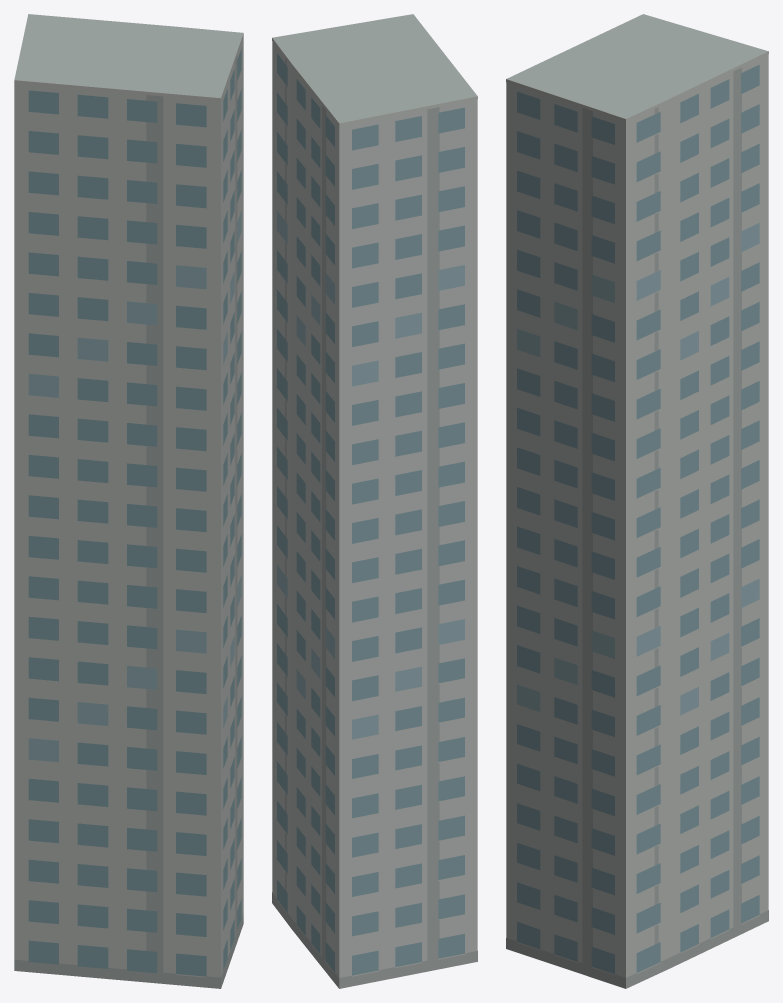
File: survey-upis-32503267.glb
3 views of the same model, side by side, from view 1: azimuth 30°, elevation 25°; view 2: azimuth 150°, elevation 25°; view 3: azimuth 270°, elevation 25° (orthographic). The views are drawn at different scales.
Visible parts, largest first — view 1: survey-upis-32503267.tmp; view 2: survey-upis-32503267.tmp; view 3: survey-upis-32503267.tmp.
Boxes of the visible parts, box(x1,y1,x2,y2) form: survey-upis-32503267.tmp: box(14, 14, 243, 988); survey-upis-32503267.tmp: box(272, 14, 477, 988); survey-upis-32503267.tmp: box(506, 14, 768, 988).
Bounding box in the file's own units: 17.39 × 67.1 × 18.37.
